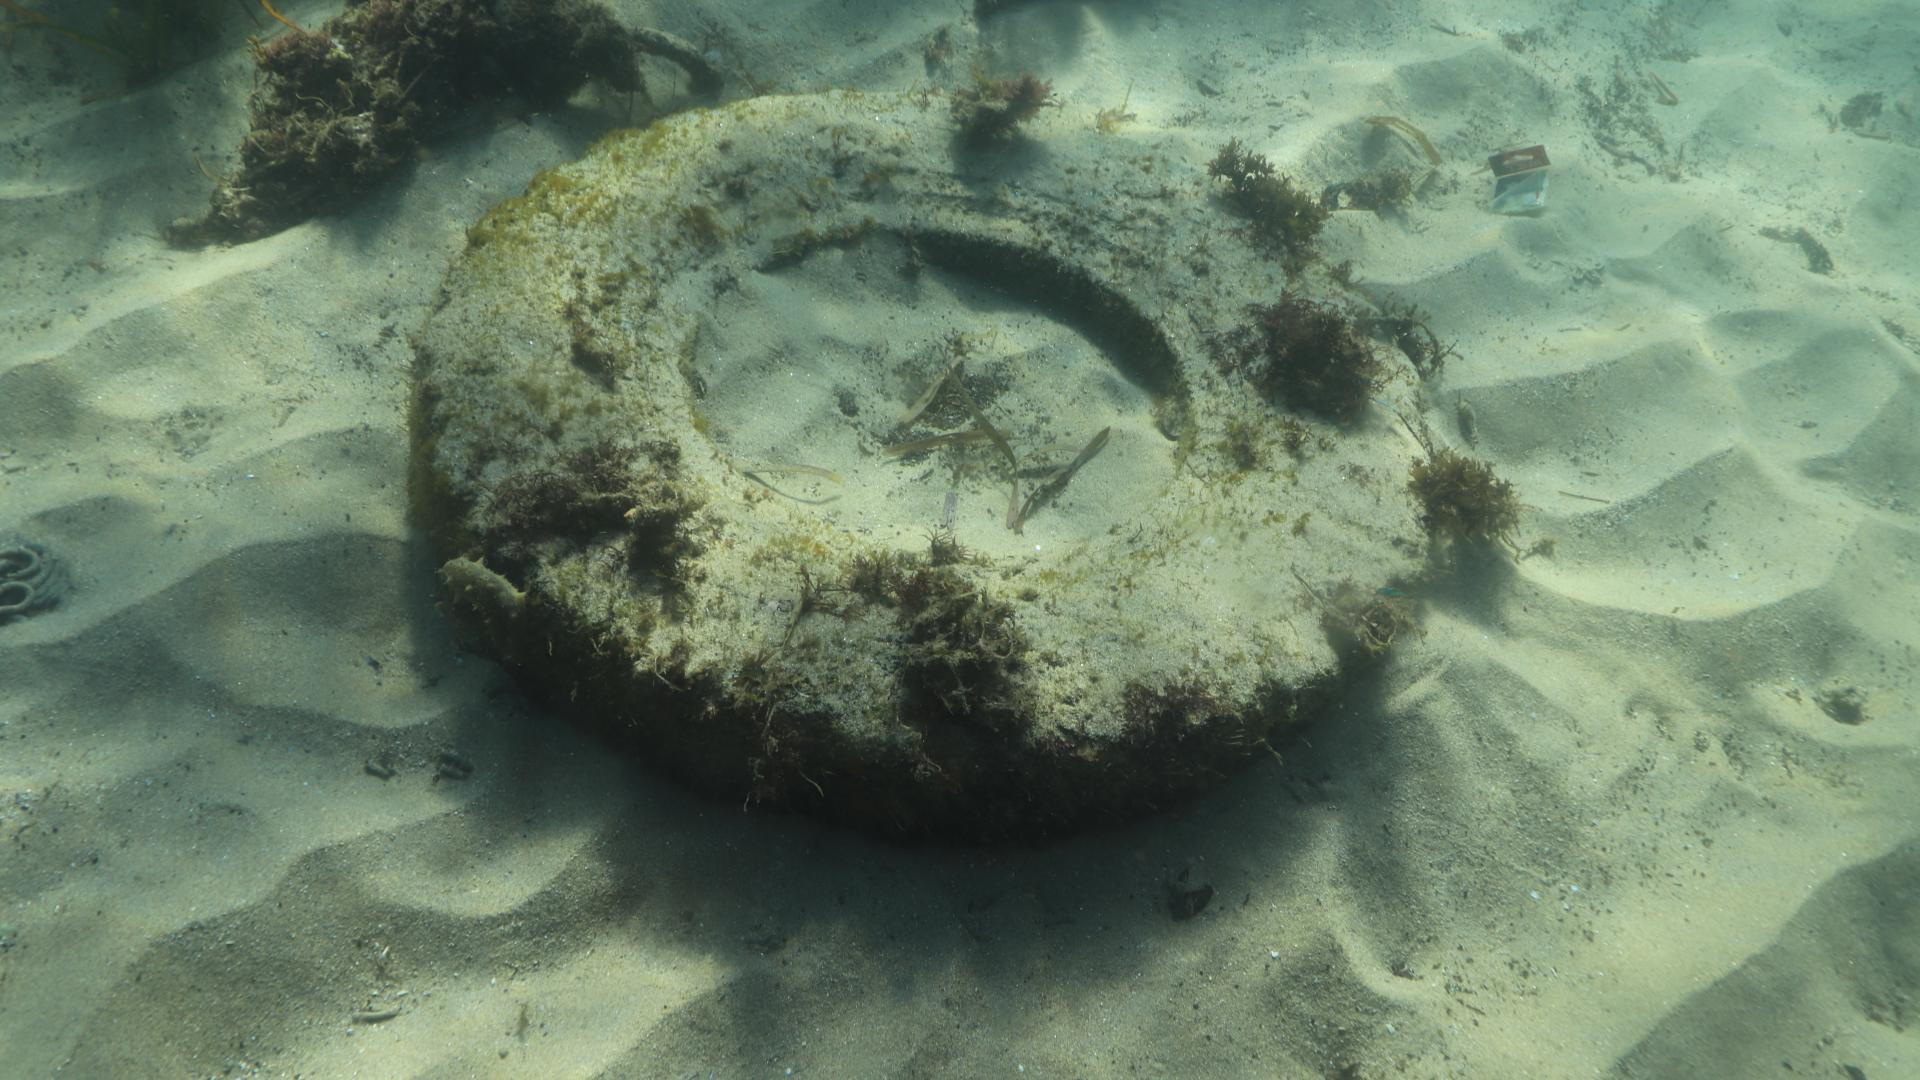tire: (415, 88, 1429, 815)
